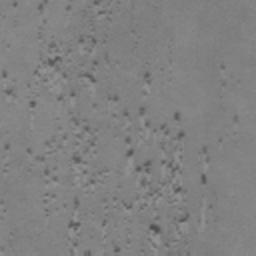Oxide scale of temperature system: (35, 34, 209, 234), (3, 86, 37, 108), (7, 228, 20, 248), (37, 0, 49, 14), (111, 240, 121, 256), (238, 8, 247, 20), (3, 141, 11, 151)
